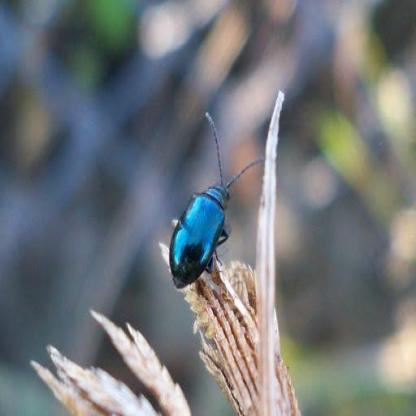beetle: (166, 118, 236, 286)
